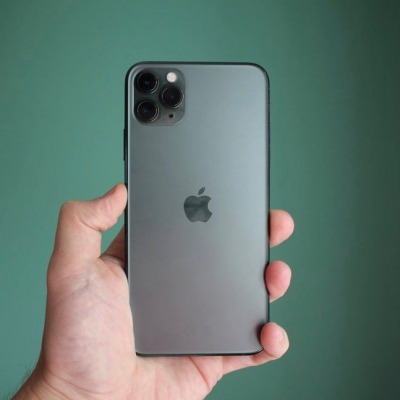iphone: (121, 60, 274, 357)
